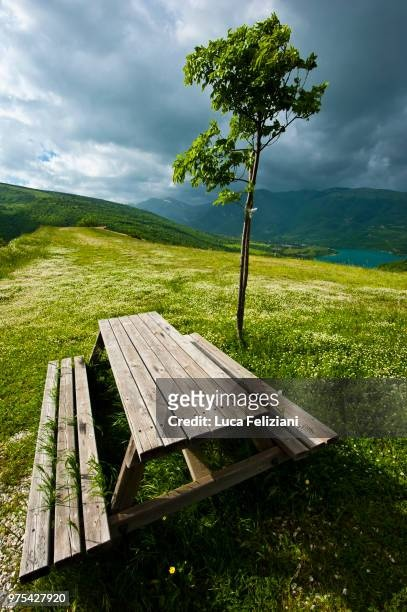obstacle: (20, 312, 336, 578)
